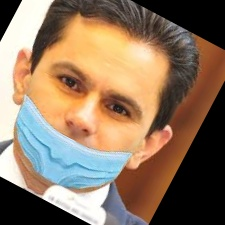mask_weared_incorrect: (19, 11, 166, 194)
